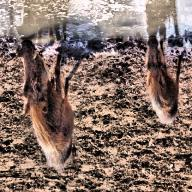boar: (17, 39, 75, 174), (146, 35, 185, 125)
